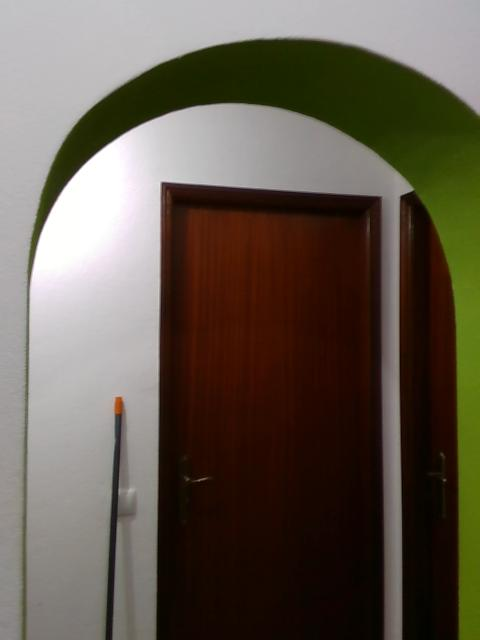door: (172, 207, 367, 640)
